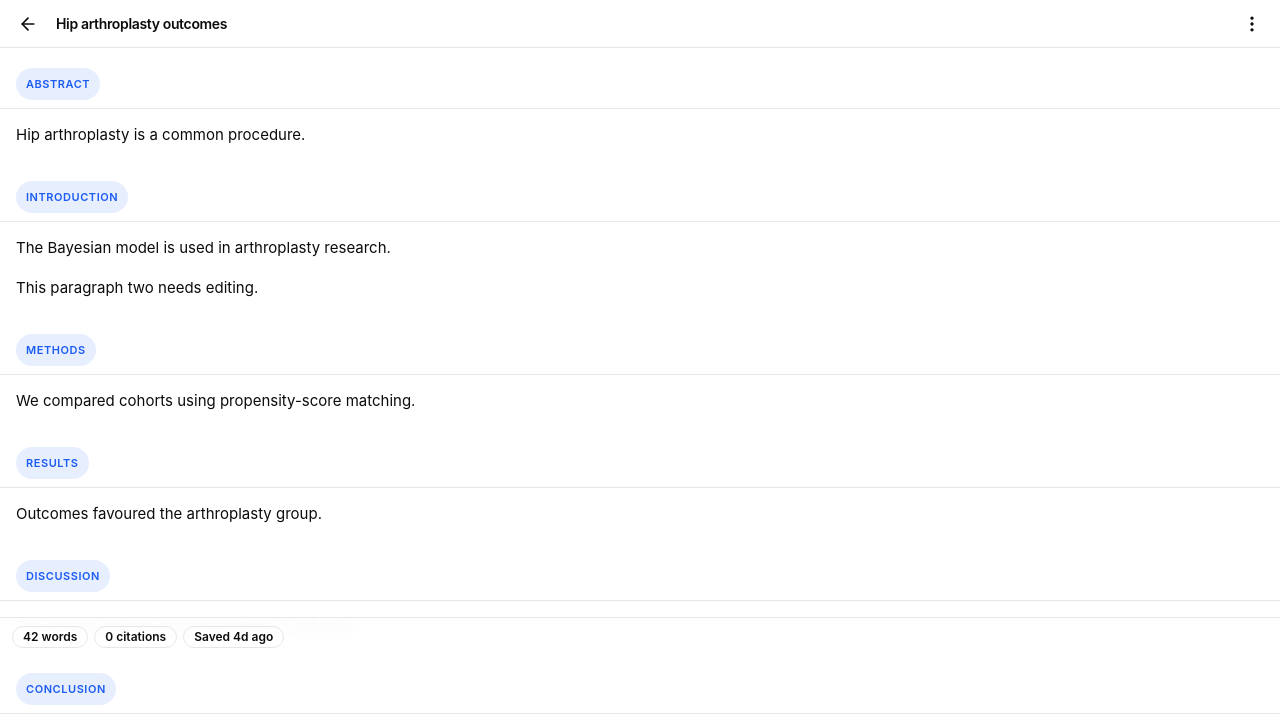
Test: MobileManuscriptReader › opens the edit sheet when a paragraph is tapped
The image size is (1280, 720).
Click the element with test id "mmr-para-Introduction-1": (137, 288) x1=16 y1=278 x2=258 y2=297
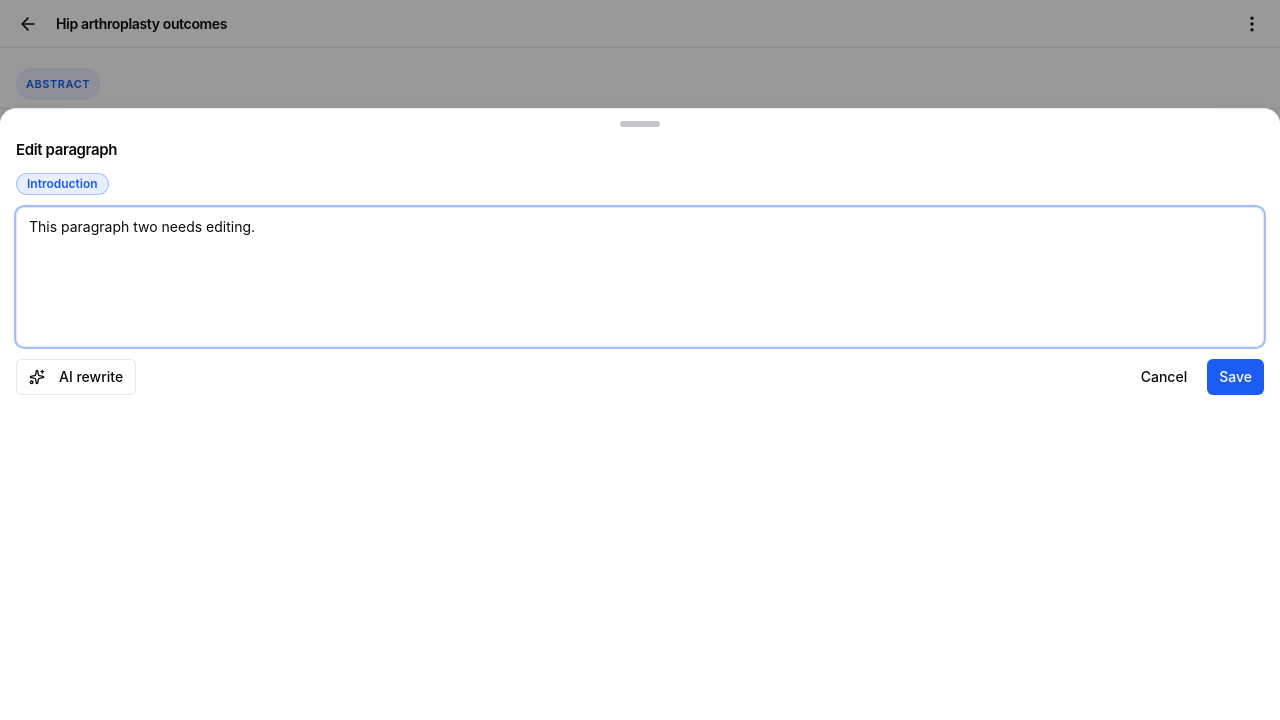
Now the element with test id "mmr-edit-sheet" is shown, box x1=16 y1=170 x2=1264 y2=402
Now the text with test id "mmr-edit-section-badge" reads "Introduction", box x1=27 y1=176 x2=98 y2=190
